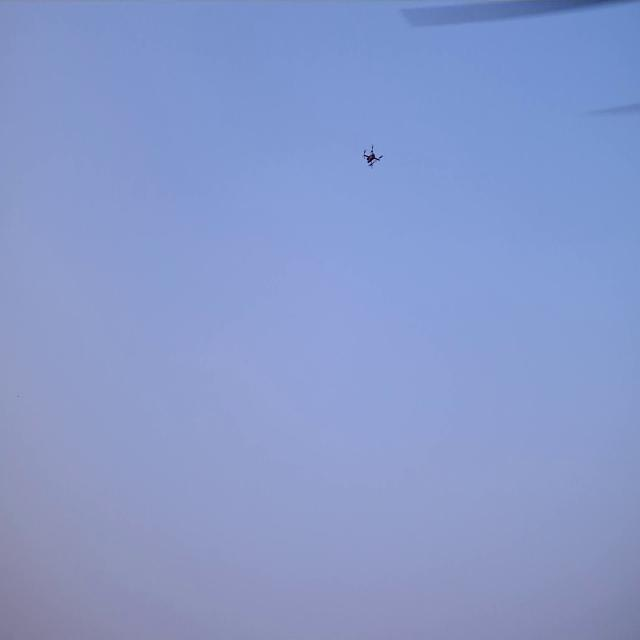UAV: (364, 147, 381, 168)
